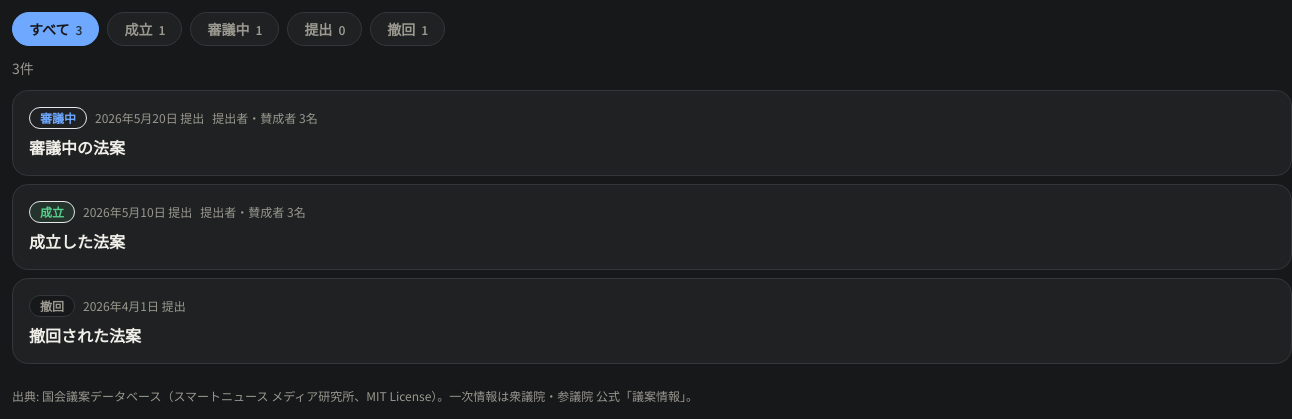
BillsFeed › ステータスタブで絞り込める
Expected: the text "審議中の法案" is shown, 29,135 -> 125,159
Expected: the text "撤回された法案" is shown, 29,323 -> 141,347
Note: 「成立」タブを押すと成立法案のみ
What coordinates should you click on to do the following:
click the button "成立1"
I would click on:
 (145, 29)
Its box is 107,12 -> 182,46.
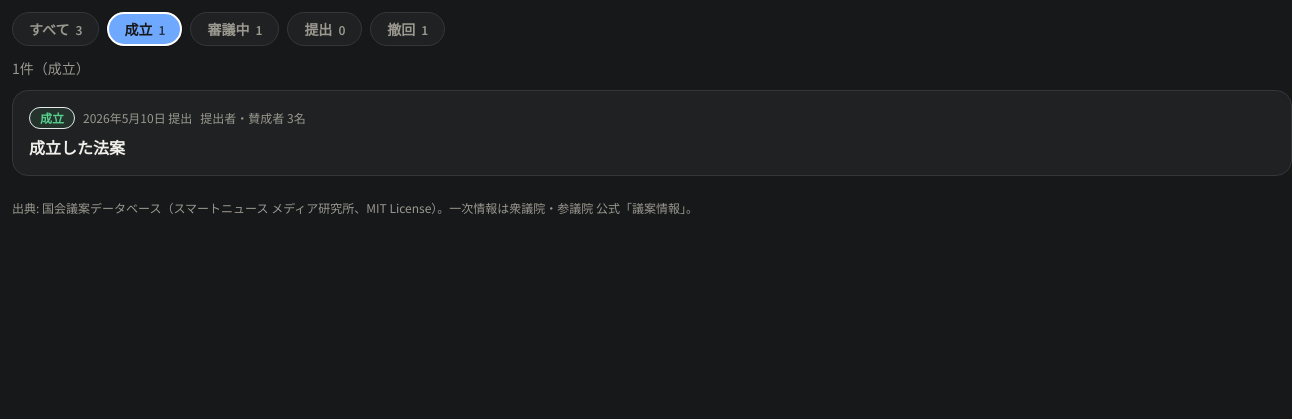
Expected: the text "成立した法案" is shown, 29,135 -> 125,159
Expected: the link "審議中の法案" is gone
Expected: the link "撤回された法案" is gone
